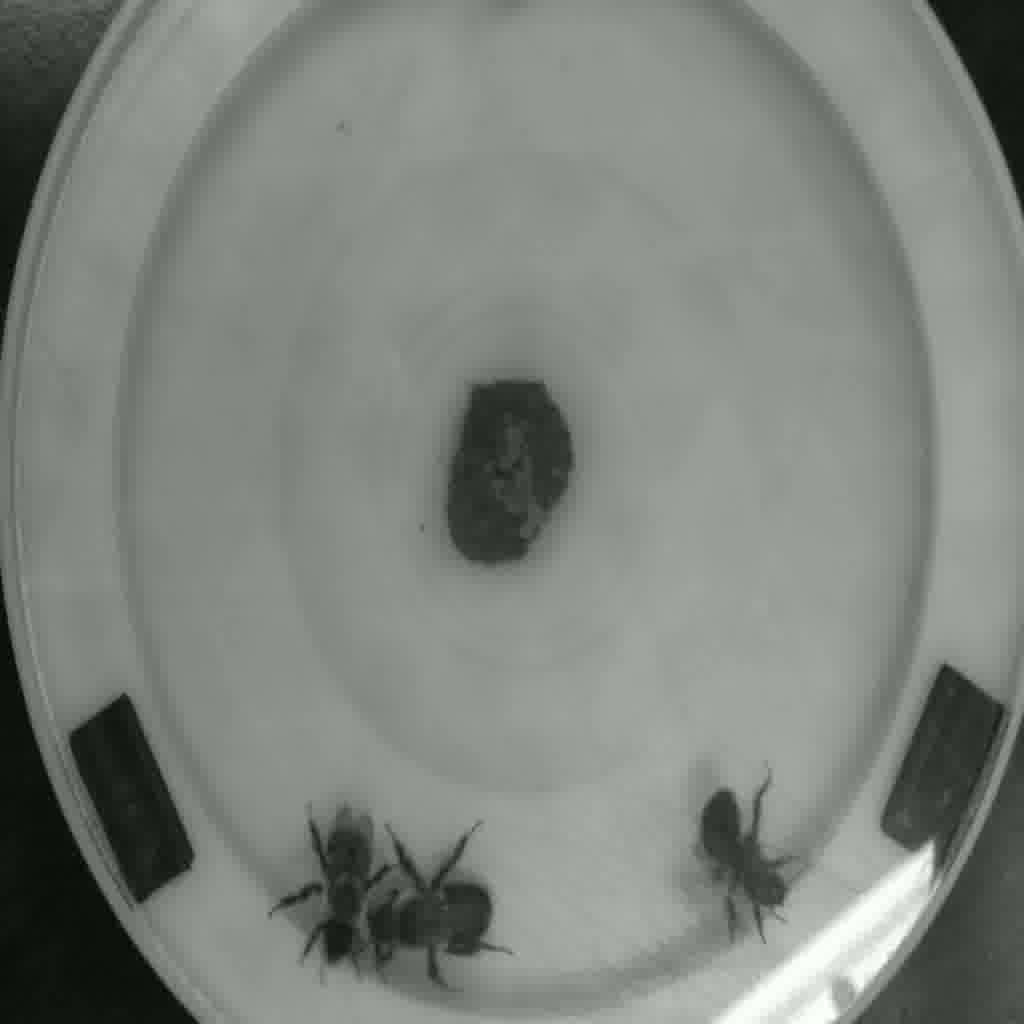bee: (688, 777, 804, 925), (372, 850, 503, 981), (284, 809, 380, 977)
